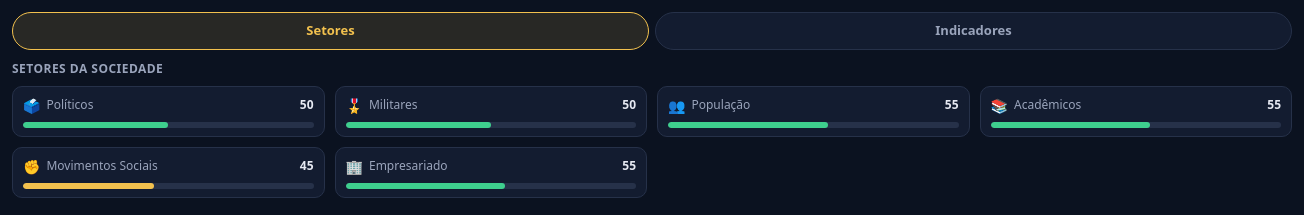
Test: StatsTabs › troca para o painel de indicadores ao clicar na aba
Click the tab "Indicadores" at (974, 31), box [655,12,1292,50]
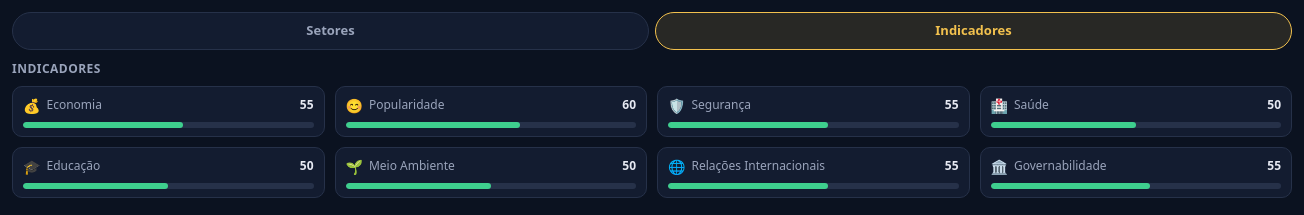
Expected: the text "Economia" is shown, [46,96,102,114]
Expected: the text "Setores da Sociedade" is gone
